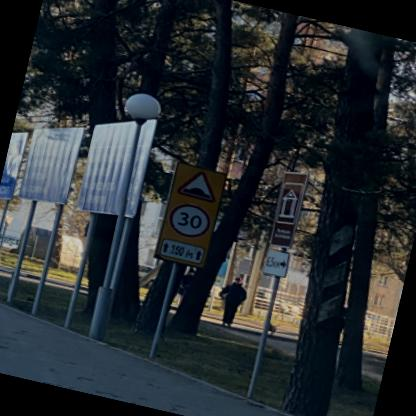speedlimit: (163, 198, 211, 240)
